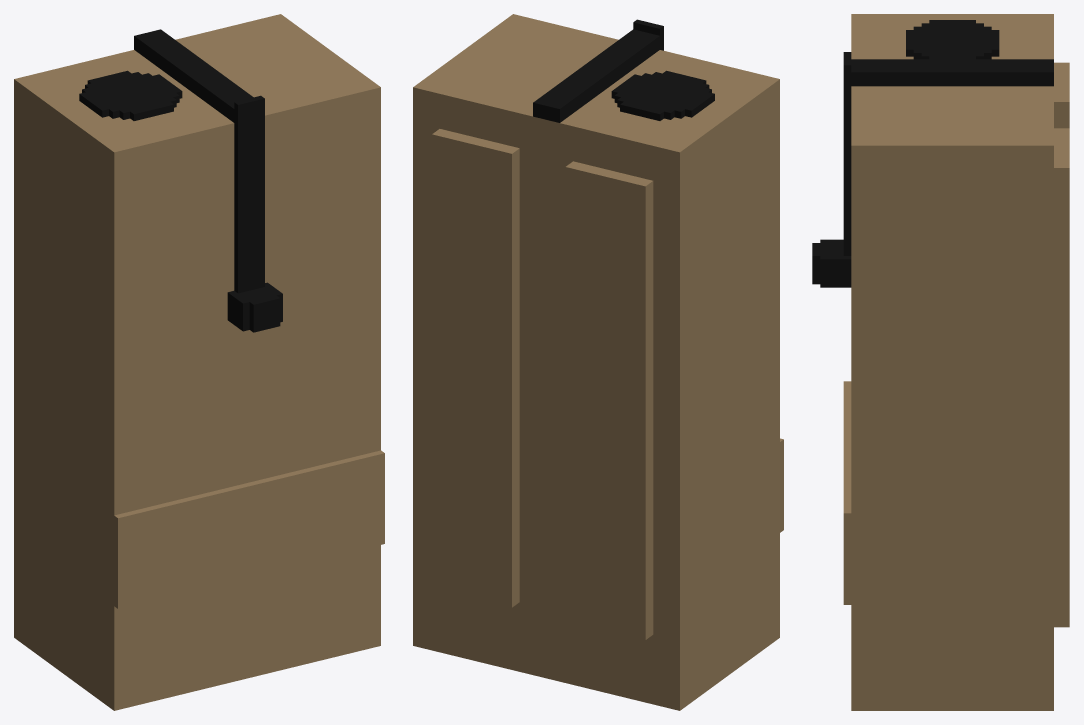
Rendered from radio_pouch.glb.
3 views of the same model, side by side, from view 1: azimuth 30°, elevation 25°; view 2: azimuth 150°, elevation 25°; view 3: azimuth 270°, elevation 25° (orthographic).
Visible parts, largest first — view 1: radio_pouch:compound; view 2: radio_pouch:compound; view 3: radio_pouch:compound.
Part boxes in pixels (x1,y1,x2,y2): radio_pouch:compound: (14,14,384,710); radio_pouch:compound: (413,14,783,710); radio_pouch:compound: (812,14,1069,710).
Bounding box in the file's own units: 0.08 × 0.166 × 0.066.
